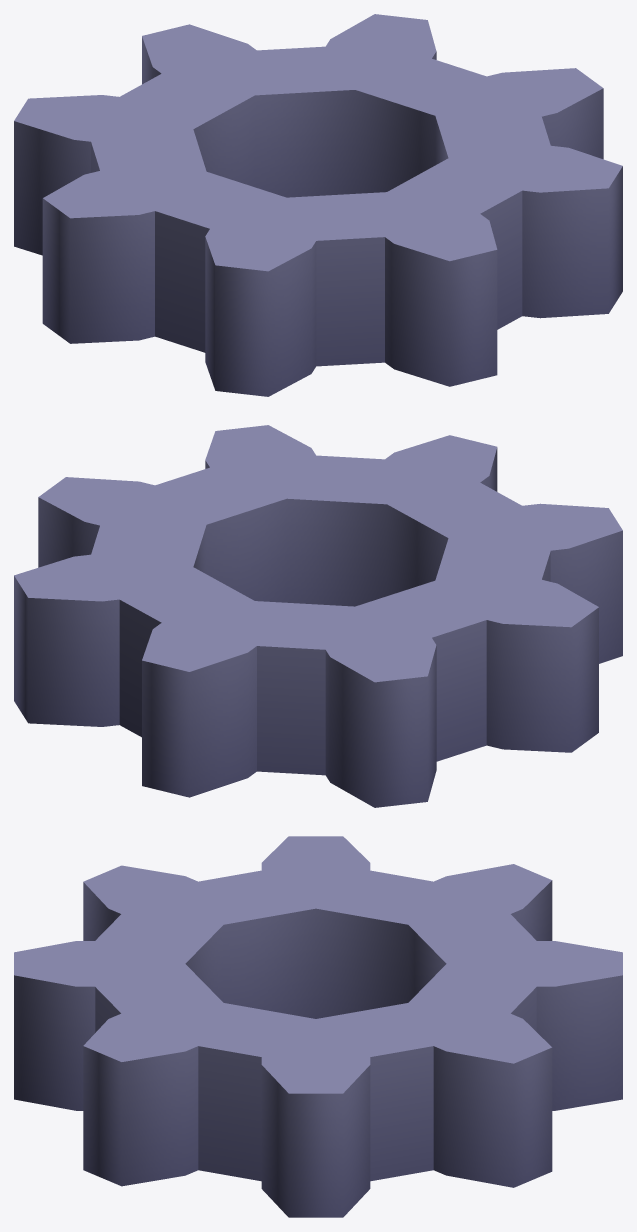
File: kenney-factory-cog-e.glb
3 views of the same model, one above another, from view 1: azimuth 30°, elevation 25°; view 2: azimuth 150°, elevation 25°; view 3: azimuth 270°, elevation 25° (orthographic).
Visible parts, largest first — view 1: cog-e; view 2: cog-e; view 3: cog-e.
Part boxes in pixels (x1=…): cog-e: x1=14, y1=14, x2=622, y2=396; cog-e: x1=14, y1=425, x2=622, y2=807; cog-e: x1=14, y1=836, x2=622, y2=1217.
Bounding box in the file's own units: 1.5 × 0.3375 × 1.5.
Materials: 1 (1 with a texture image).
